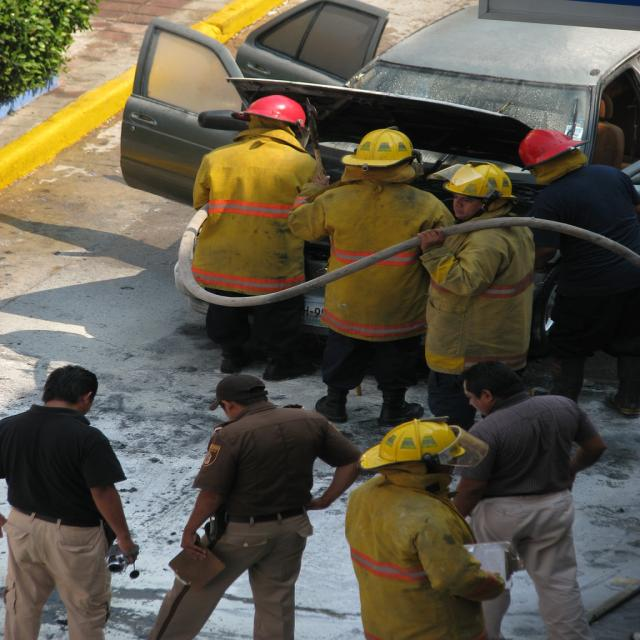no_fire: (27, 36, 606, 611)
